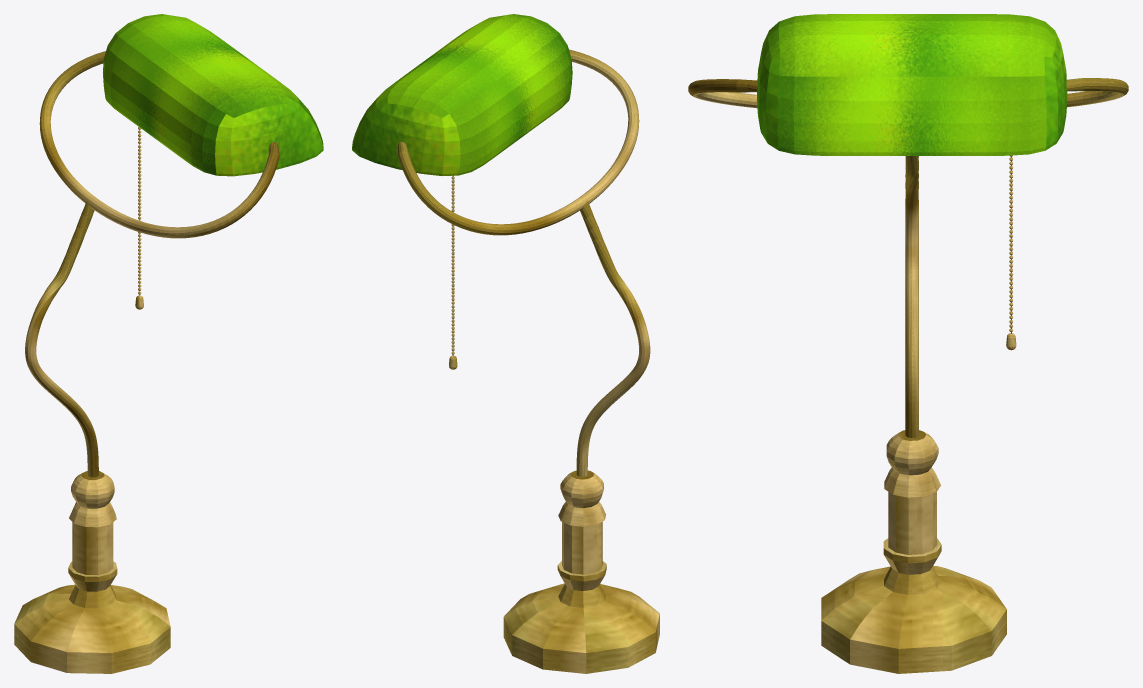
Rendered from Lamparina modelofinal.fbx.
The picture shows the model from 3 angles, left to right: view 1: azimuth 30°, elevation 25°; view 2: azimuth 150°, elevation 25°; view 3: azimuth 270°, elevation 25°; orthographic projection. The views are drawn at different scales.
Parts seen in each view (by area): view 1: Cube, Cylinder, NurbsPath, Torus; view 2: Cube, Cylinder, NurbsPath, Torus; view 3: Cube, Cylinder, NurbsPath, Torus.
Boxes of the visible parts, x1=… form: Cube: x1=103, y1=14, x2=323, y2=176; Cylinder: x1=14, y1=471, x2=170, y2=673; NurbsPath: x1=25, y1=51, x2=279, y2=477; Torus: x1=135, y1=127, x2=143, y2=309; Cube: x1=352, y1=14, x2=572, y2=175; Cylinder: x1=503, y1=470, x2=659, y2=673; NurbsPath: x1=398, y1=49, x2=650, y2=476; Torus: x1=449, y1=175, x2=457, y2=369; Cube: x1=757, y1=14, x2=1067, y2=155; Cylinder: x1=821, y1=430, x2=1006, y2=673; NurbsPath: x1=688, y1=78, x2=1128, y2=437; Torus: x1=1006, y1=155, x2=1016, y2=350.
Size of the model in its own units: 105 by 225 by 133.
Materials: 3 (2 with a texture image).
